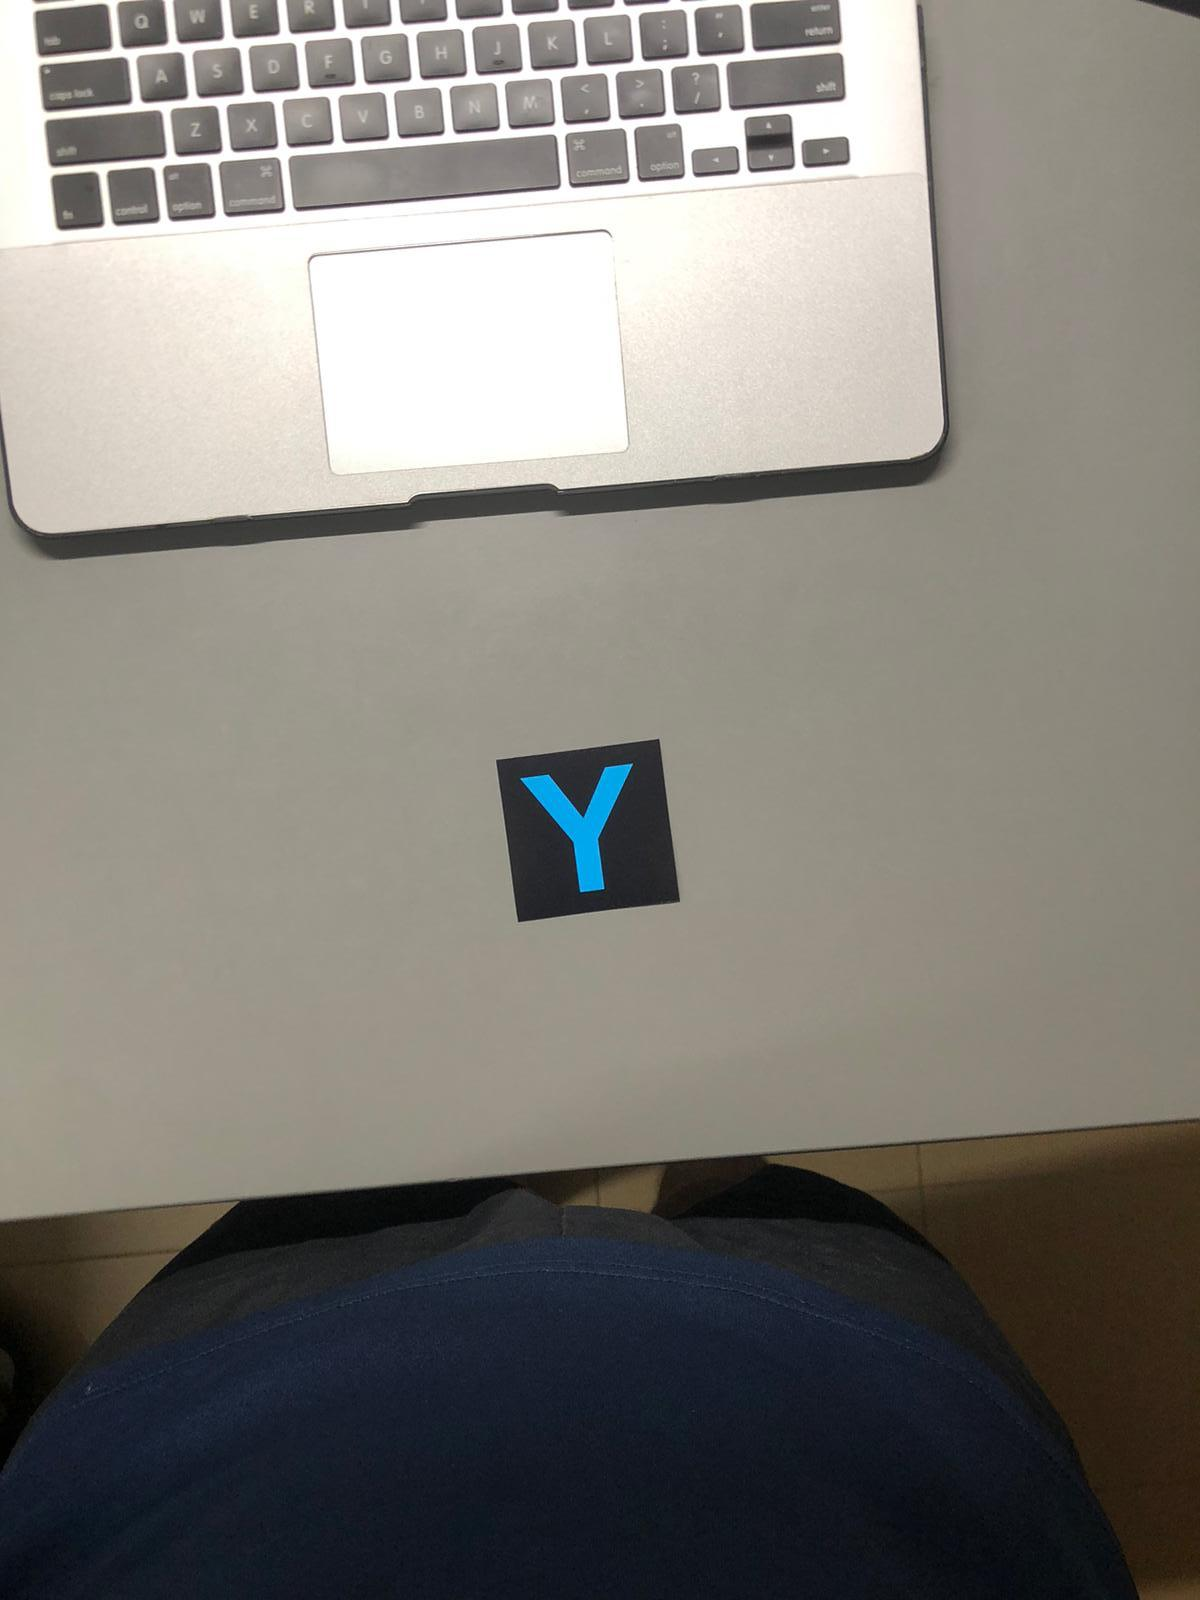Y: (487, 753, 687, 918)
